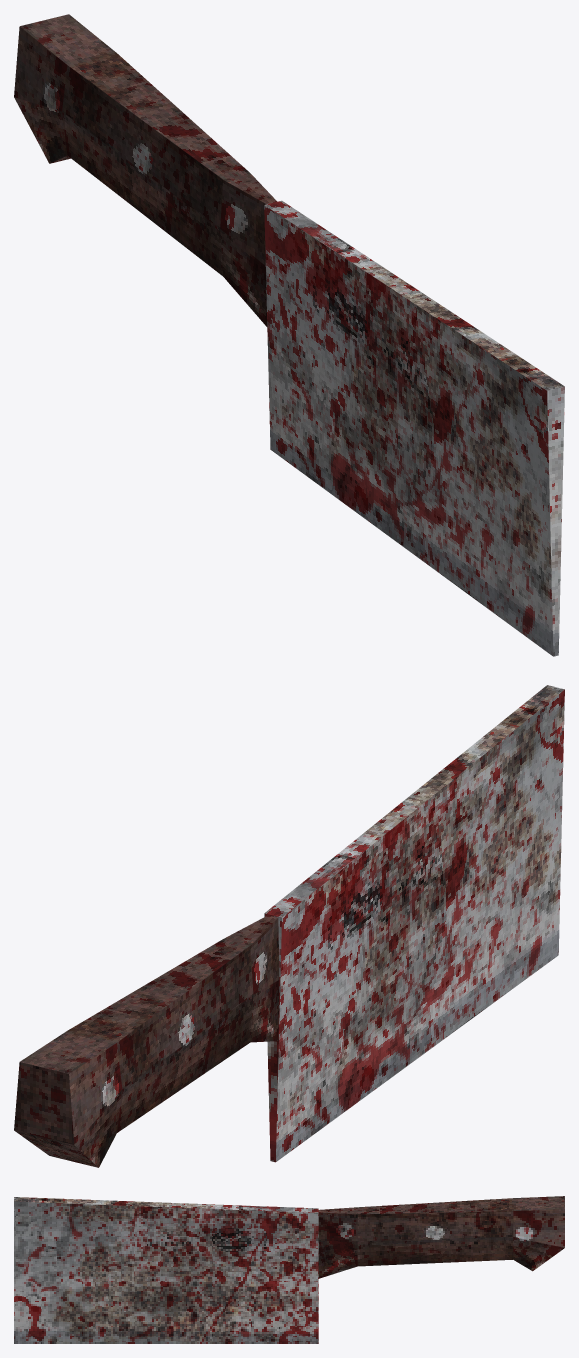
The picture shows the model from 3 angles, top to bottom: view 1: azimuth 30°, elevation 25°; view 2: azimuth 150°, elevation 25°; view 3: azimuth 270°, elevation 25°; orthographic projection. The views are drawn at different scales.
Visible parts, largest first — view 1: SM_CleaverKnife_0; view 2: SM_CleaverKnife_0; view 3: SM_CleaverKnife_0.
Boxes of the visible parts, x1=… form: SM_CleaverKnife_0: x1=14, y1=14, x2=564, y2=656; SM_CleaverKnife_0: x1=14, y1=685, x2=564, y2=1167; SM_CleaverKnife_0: x1=14, y1=1196, x2=564, y2=1343.
Bounding box in the file's own units: 0.0274 × 0.116 × 0.4025.
Materials: 1 (1 with a texture image).
